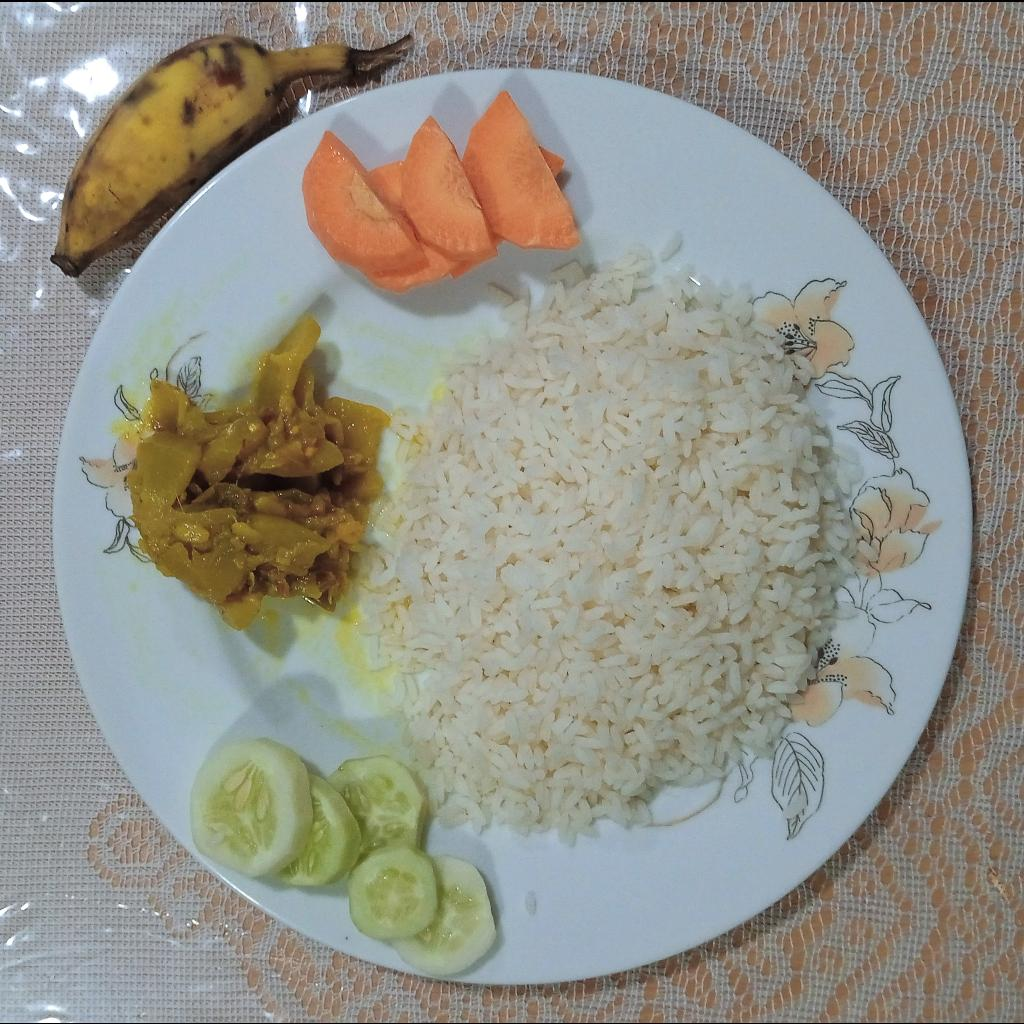banana: (48, 32, 412, 277)
carrot: (301, 90, 583, 294)
cucumber: (189, 736, 497, 974)
lau: (122, 319, 393, 634)
rice: (355, 238, 879, 843)
